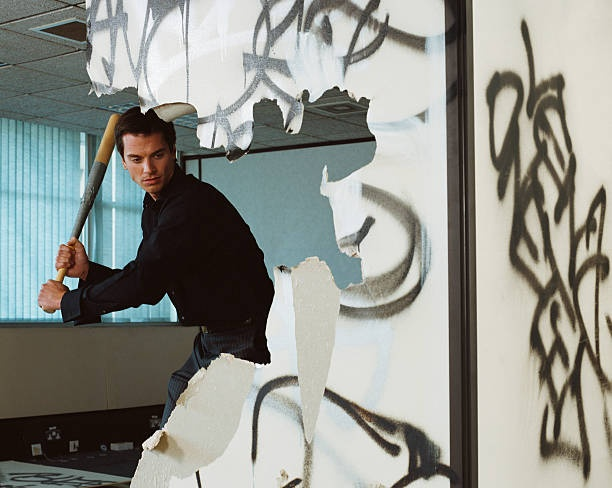bita: (39, 117, 122, 304)
